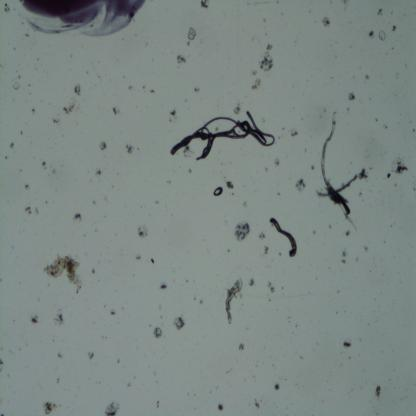Air bubble: (213, 184, 223, 196)
Background material: (42, 251, 85, 292), (388, 156, 410, 180), (258, 42, 275, 73), (232, 219, 252, 242), (66, 84, 81, 113), (103, 398, 121, 414), (43, 400, 60, 415), (52, 308, 65, 326), (150, 325, 165, 340), (294, 177, 308, 193), (374, 385, 384, 405), (171, 316, 186, 329), (138, 224, 150, 240), (186, 27, 197, 44), (321, 15, 333, 30), (223, 178, 235, 193), (176, 52, 188, 66), (252, 76, 264, 90), (124, 143, 136, 156), (341, 337, 353, 349), (97, 139, 108, 152), (94, 164, 104, 178), (72, 210, 83, 222), (340, 248, 348, 264), (86, 349, 96, 361), (378, 29, 388, 41), (233, 101, 241, 115), (268, 280, 276, 294), (201, 0, 212, 10), (290, 126, 299, 138), (31, 310, 40, 322), (348, 92, 358, 102), (158, 282, 168, 292), (111, 106, 121, 116), (12, 81, 21, 92), (368, 28, 375, 40), (25, 205, 34, 214), (272, 384, 281, 392), (238, 342, 245, 352), (260, 231, 267, 241), (376, 8, 383, 16)
Cellulose filter fibre: (318, 111, 356, 229), (270, 217, 298, 257), (316, 175, 361, 199), (226, 277, 245, 325)
Microfibre: (170, 110, 276, 162)
Pen: (17, 0, 146, 41)
